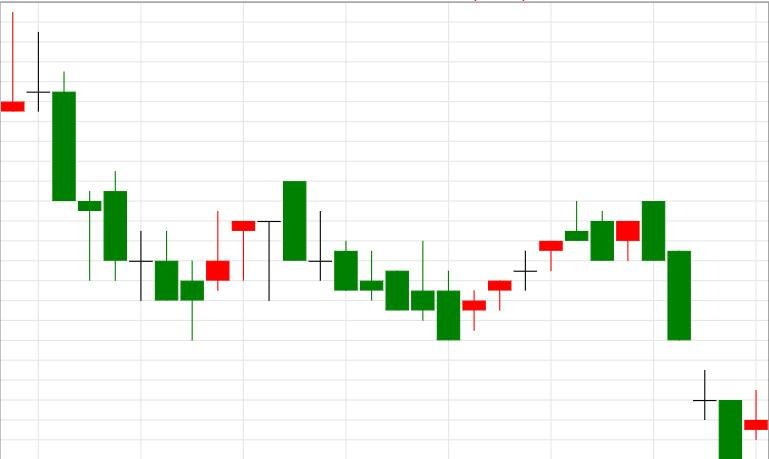bearish_engulfing_fall: (462, 201, 666, 330)
inverse_hammer_rise: (27, 31, 230, 341)
